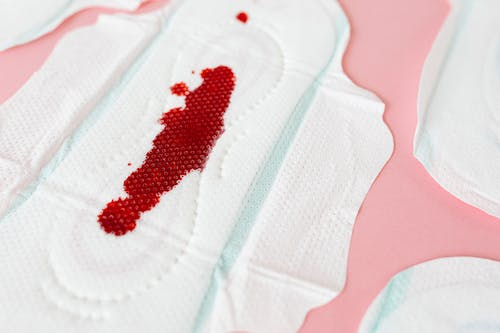blood: (94, 62, 238, 239), (235, 8, 251, 25)
